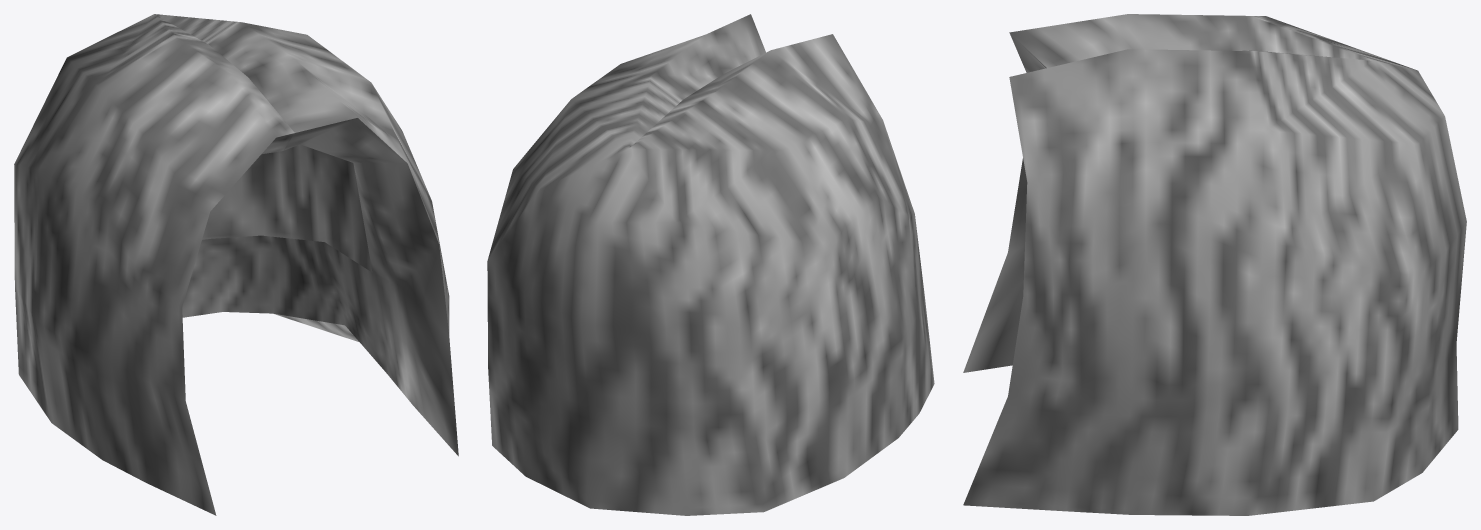
Rendered from Wig_Kate_Hair_PartingCentreLong.fbx.
3 views of the same model, side by side, from view 1: azimuth 30°, elevation 25°; view 2: azimuth 150°, elevation 25°; view 3: azimuth 270°, elevation 25° (orthographic). The views are drawn at different scales.
Visible parts, largest first — view 1: BoxOfJars003; view 2: BoxOfJars003; view 3: BoxOfJars003.
Boxes of the visible parts, x1=… form: BoxOfJars003: x1=14, y1=14, x2=458, y2=515; BoxOfJars003: x1=487, y1=14, x2=934, y2=515; BoxOfJars003: x1=963, y1=14, x2=1466, y2=515.
Size of the model in its own units: 12.5 by 12.58 by 14.1.
